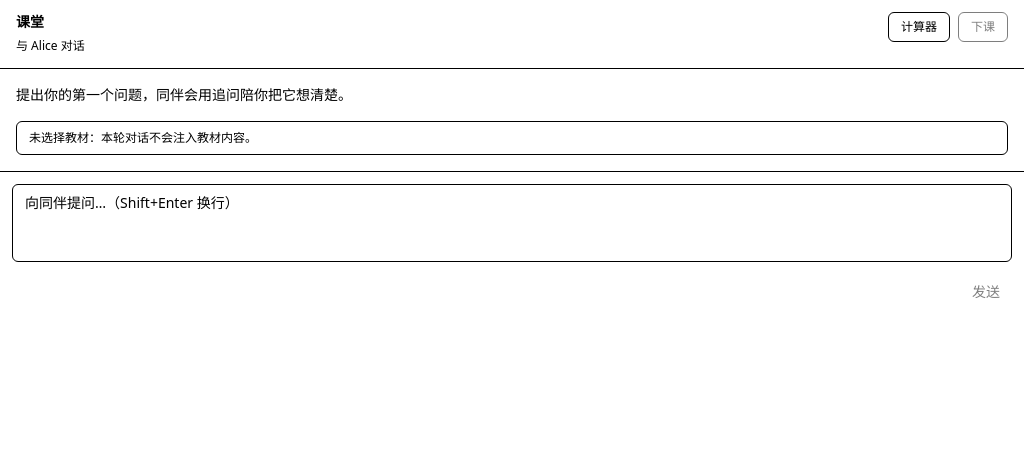
ChatPanel › keeps the user message and offers retry when the stream fails to start
This screenshot has width=1024, height=473.
In the text box named "Message": coordinates (512, 223) [12, 184, 1012, 262], type "再试一次"
Then press Enter
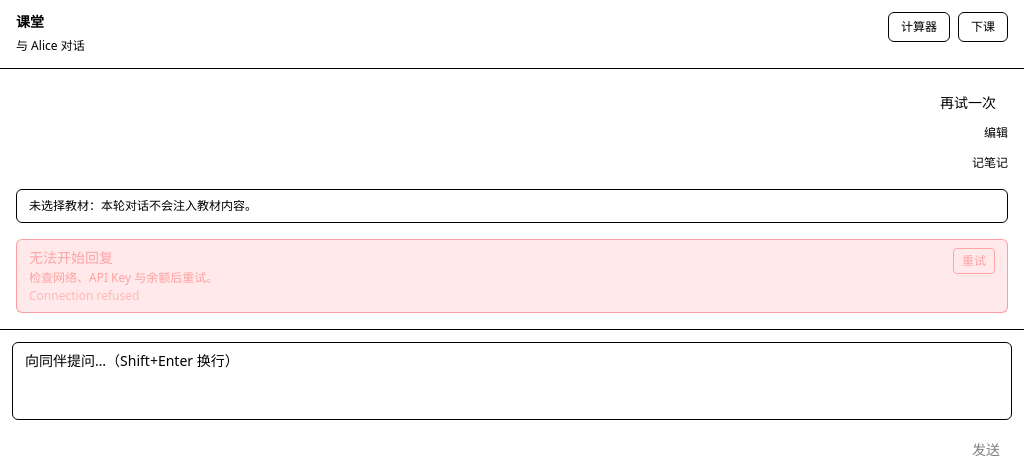
Expected: the message shows "Connection refused", [29, 287, 139, 304]
Expected: the text "再试一次" is shown, [940, 93, 996, 112]
Expected: the button "重试" is enabled, [953, 248, 995, 274]
